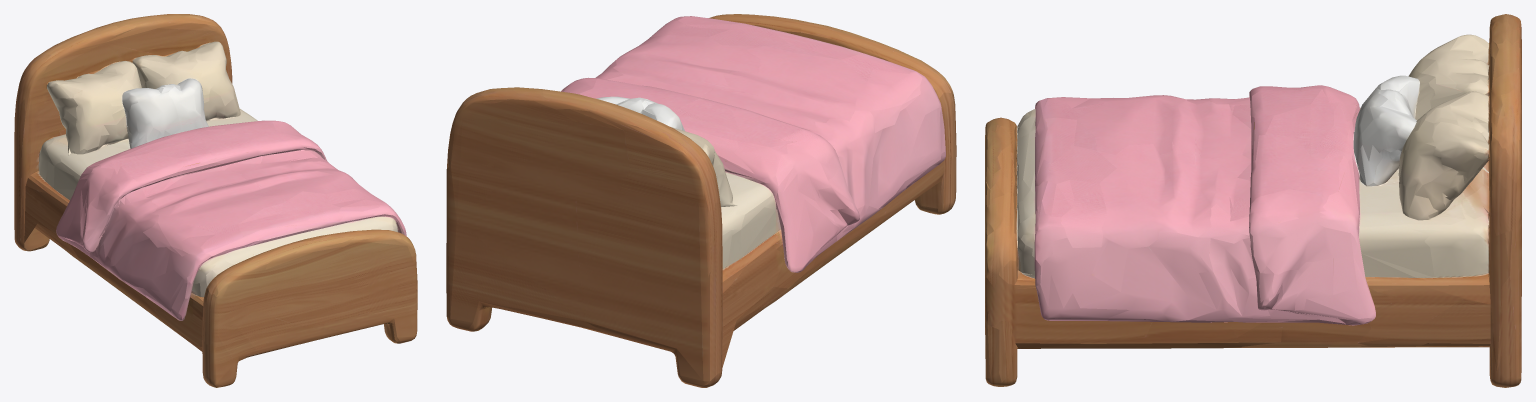
The model's file is bed-original.glb.
3 views of the same model, side by side, from view 1: azimuth 30°, elevation 25°; view 2: azimuth 150°, elevation 25°; view 3: azimuth 270°, elevation 25° (orthographic). The views are drawn at different scales.
Bounding box in the file's own units: 1.42 × 1.07 × 1.9.
1 material, 1 textured.
